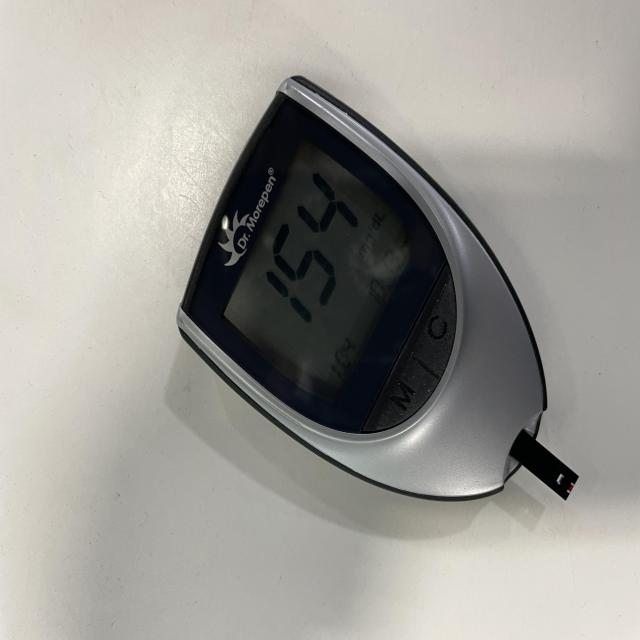gluco: (176, 77, 576, 505)
